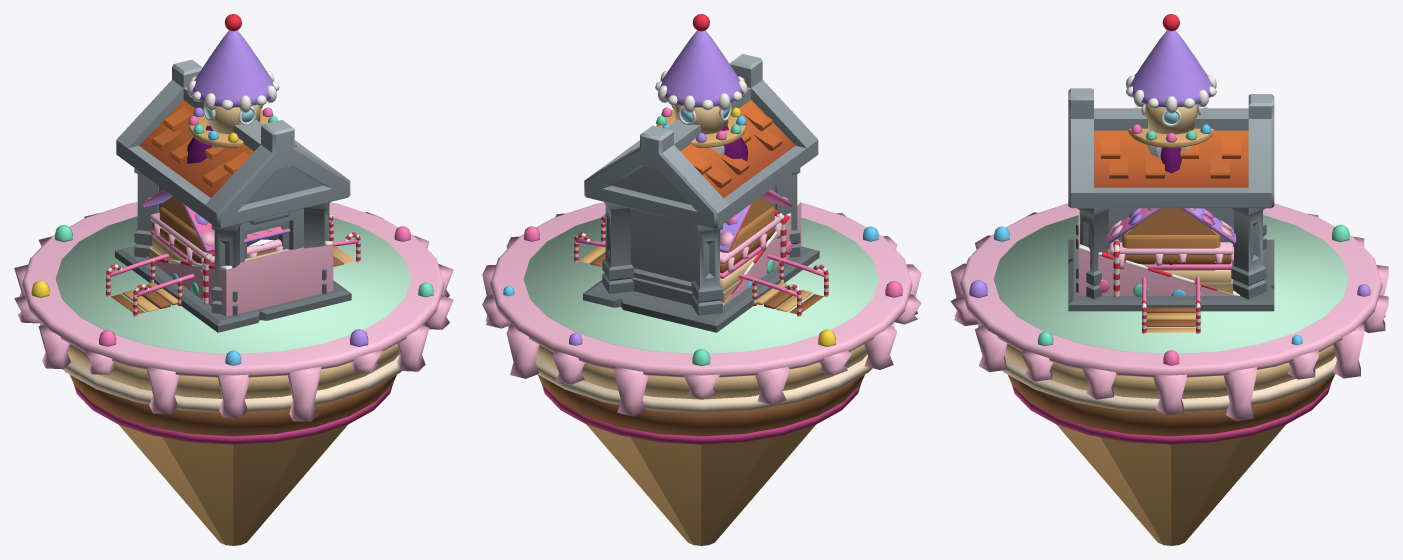
File: env.glb
The picture shows the model from 3 angles, left to right: view 1: azimuth 30°, elevation 25°; view 2: azimuth 150°, elevation 25°; view 3: azimuth 270°, elevation 25°; orthographic projection.
Parts seen in each view (by area): view 1: crypt, C_Shelf__C_pink_5, C_Shelf__C_mint_8, C_Shelf__C_bisc_8, C_Ramp__C_ice_5, C_Shelf__C_choc_8, C_Shelf__C_van_8, C_Shelf__C_cream_5, C_Tower__C_lilac_2, C_Shelf__C_pinkd_2, C_Tower__C_white_5, C_Block__C_ice_2 (+10 smaller); view 2: crypt, C_Shelf__C_pink_5, C_Shelf__C_mint_8, C_Shelf__C_bisc_8, C_Shelf__C_choc_8, C_Shelf__C_cream_5, C_Shelf__C_van_8, C_Tower__C_lilac_2, C_Shelf__C_pinkd_2, C_Tower__C_white_5, C_Ramp__C_ice_5, C_House__C_ginger_8 (+8 smaller); view 3: crypt, C_Shelf__C_pink_5, C_Shelf__C_mint_8, C_Shelf__C_bisc_8, C_Shelf__C_choc_8, C_Shelf__C_cream_5, C_Shelf__C_van_8, C_Tower__C_lilac_2, C_House__C_ginger_8, C_Shelf__C_pinkd_2, C_Ramp__C_ice_5, C_Block__C_ice_2 (+9 smaller).
Part boxes in pixels (x1,y1,x2,y2): crypt: [115, 59, 351, 332]; C_Shelf__C_pink_5: [14, 202, 453, 421]; C_Shelf__C_mint_8: [55, 216, 410, 353]; C_Shelf__C_bisc_8: [119, 424, 347, 545]; C_Ramp__C_ice_5: [155, 244, 333, 316]; C_Shelf__C_choc_8: [70, 375, 396, 436]; C_Shelf__C_van_8: [67, 343, 399, 398]; C_Shelf__C_cream_5: [40, 322, 401, 412]; C_Tower__C_lilac_2: [190, 30, 276, 116]; C_Shelf__C_pinkd_2: [73, 383, 393, 444]; C_Tower__C_white_5: [187, 71, 279, 124]; C_Block__C_ice_2: [150, 212, 282, 273]; crypt: [583, 54, 819, 332]; C_Shelf__C_pink_5: [482, 202, 921, 416]; C_Shelf__C_mint_8: [523, 217, 878, 353]; C_Shelf__C_bisc_8: [587, 424, 815, 545]; C_Shelf__C_choc_8: [538, 375, 864, 436]; C_Shelf__C_cream_5: [508, 322, 894, 413]; C_Shelf__C_van_8: [537, 344, 867, 399]; C_Tower__C_lilac_2: [658, 30, 743, 142]; C_Shelf__C_pinkd_2: [541, 383, 861, 444]; C_Tower__C_white_5: [655, 71, 747, 124]; C_Ramp__C_ice_5: [724, 202, 801, 305]; C_House__C_ginger_8: [720, 197, 774, 273]; crypt: [1068, 88, 1274, 311]; C_Shelf__C_pink_5: [950, 203, 1388, 421]; C_Shelf__C_mint_8: [993, 215, 1348, 353]; C_Shelf__C_bisc_8: [1057, 424, 1285, 545]; C_Shelf__C_choc_8: [1008, 375, 1334, 436]; C_Shelf__C_cream_5: [978, 322, 1336, 412]; C_Shelf__C_van_8: [1004, 343, 1335, 398]; C_Tower__C_lilac_2: [1128, 30, 1213, 108]; C_House__C_ginger_8: [1122, 208, 1220, 270]; C_Shelf__C_pinkd_2: [1011, 384, 1330, 444]; C_Ramp__C_ice_5: [1078, 210, 1231, 295]; C_Block__C_ice_2: [1108, 242, 1233, 269].
Bounding box in the file's own units: 17.33 × 22.49 × 17.02.
Materials: 82 (8 with a texture image).
